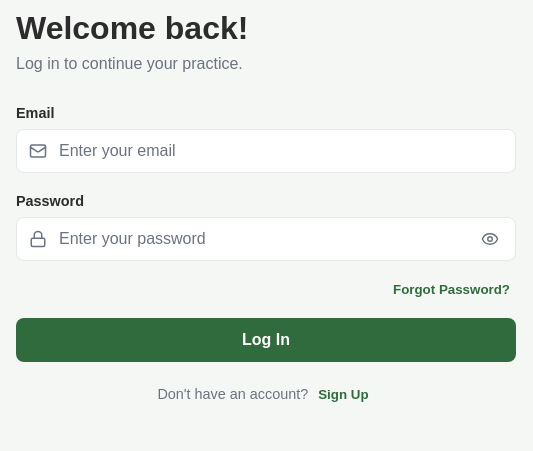
Test: LoginForm › shows an error message and saves no token when the login fails
Type "anna@example.com" into the field labelled "Email" at [275, 151], box [47, 130, 503, 172]
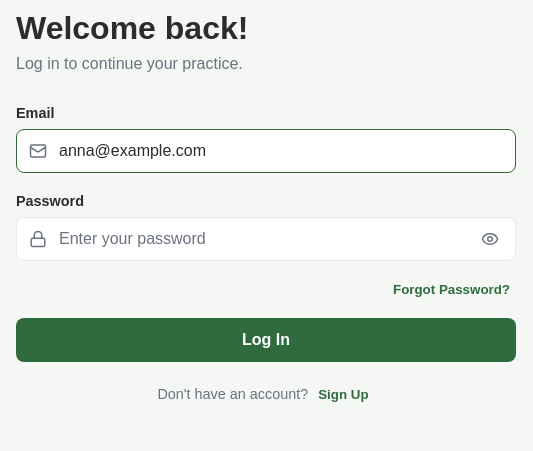
Type "wrong-password" into the password field labelled "Password" at [262, 239], box [47, 218, 477, 260]
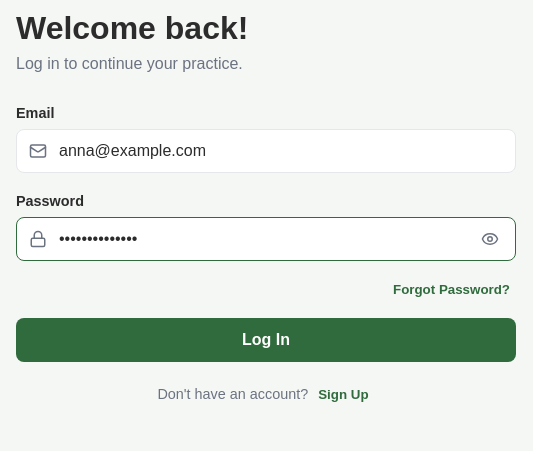
Click the button "Log In" at [266, 340], box [16, 318, 516, 362]
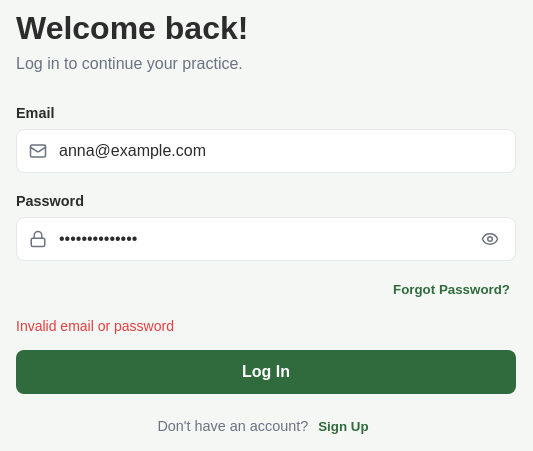
Expected: the message reads "Invalid email or password", [16, 318, 174, 334]
